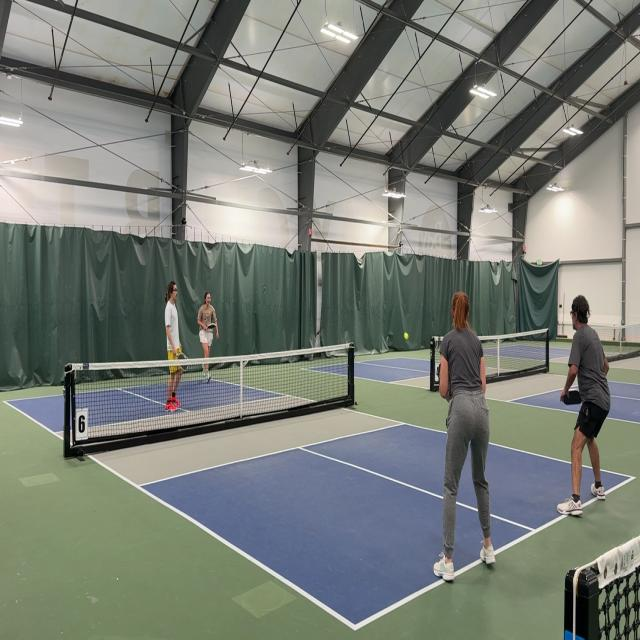ball: (403, 331, 409, 341)
